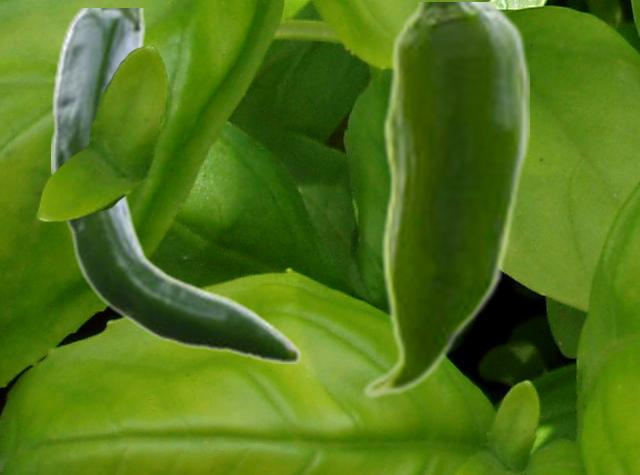green_chili: (51, 8, 301, 362), (360, 2, 528, 399)
